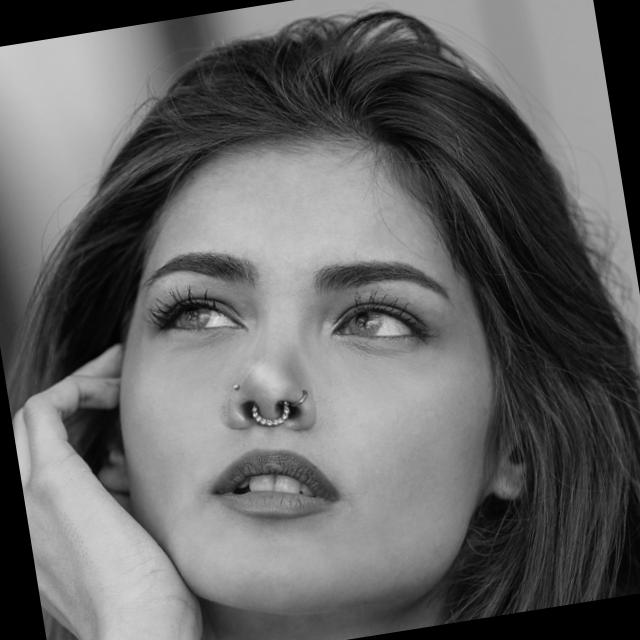face: (44, 41, 594, 640)
